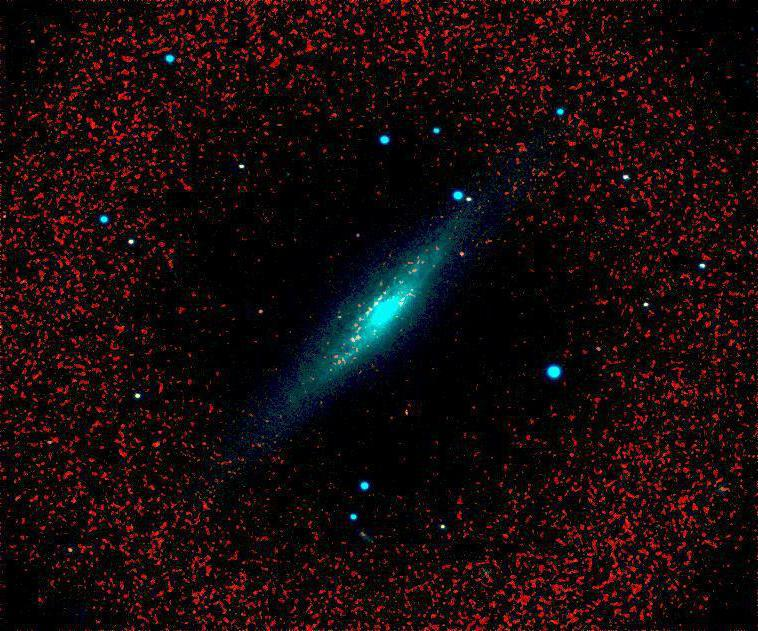star: (140, 429, 170, 459)
